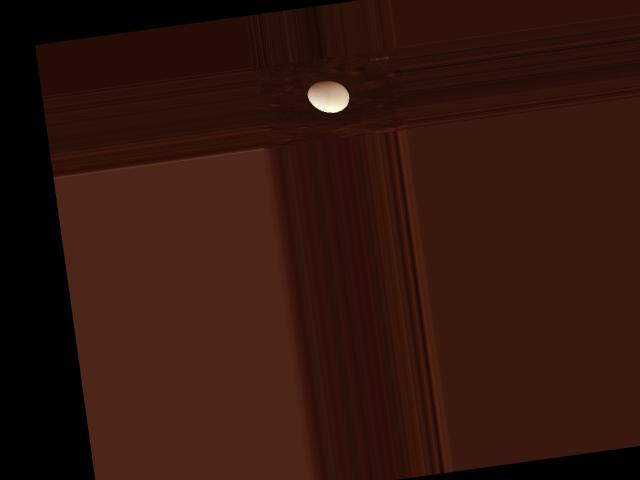egg: (305, 77, 350, 115)
